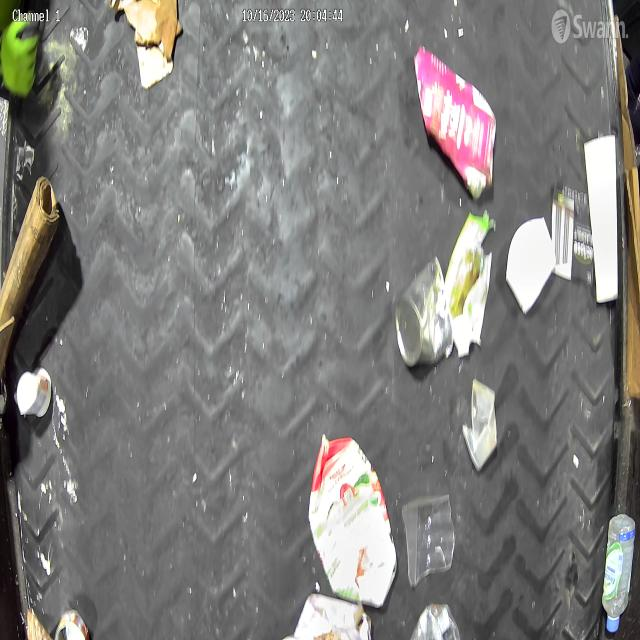can: (396, 259, 455, 370)
non_white_jug: (308, 429, 398, 606)
plastic_bottle: (601, 513, 636, 635)
